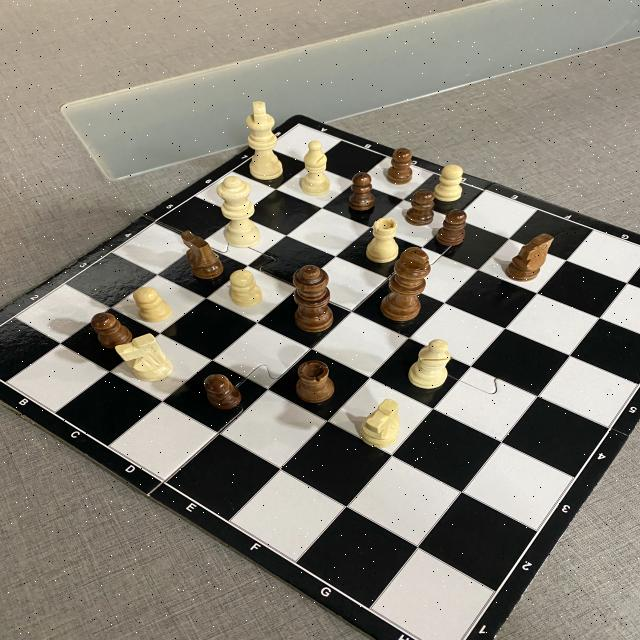Black-King: (379, 246, 429, 322)
Black-Knight: (506, 232, 553, 280), (183, 230, 224, 278)
Black-Pawn: (90, 312, 131, 348), (205, 374, 241, 409), (436, 208, 468, 246), (406, 190, 434, 226), (348, 172, 372, 212), (388, 148, 412, 182)
Black-Queen: (294, 265, 332, 333)
Black-Rook: (296, 361, 334, 404)
White-Bishop: (409, 338, 452, 391), (300, 140, 330, 196)
White-King: (246, 100, 284, 178)
White-Knight: (116, 333, 172, 381), (360, 398, 401, 447)
White-Pawn: (133, 286, 173, 321), (230, 270, 262, 306), (432, 165, 463, 202)
White-Queen: (219, 175, 261, 248)
White-Rook: (366, 218, 398, 264)
